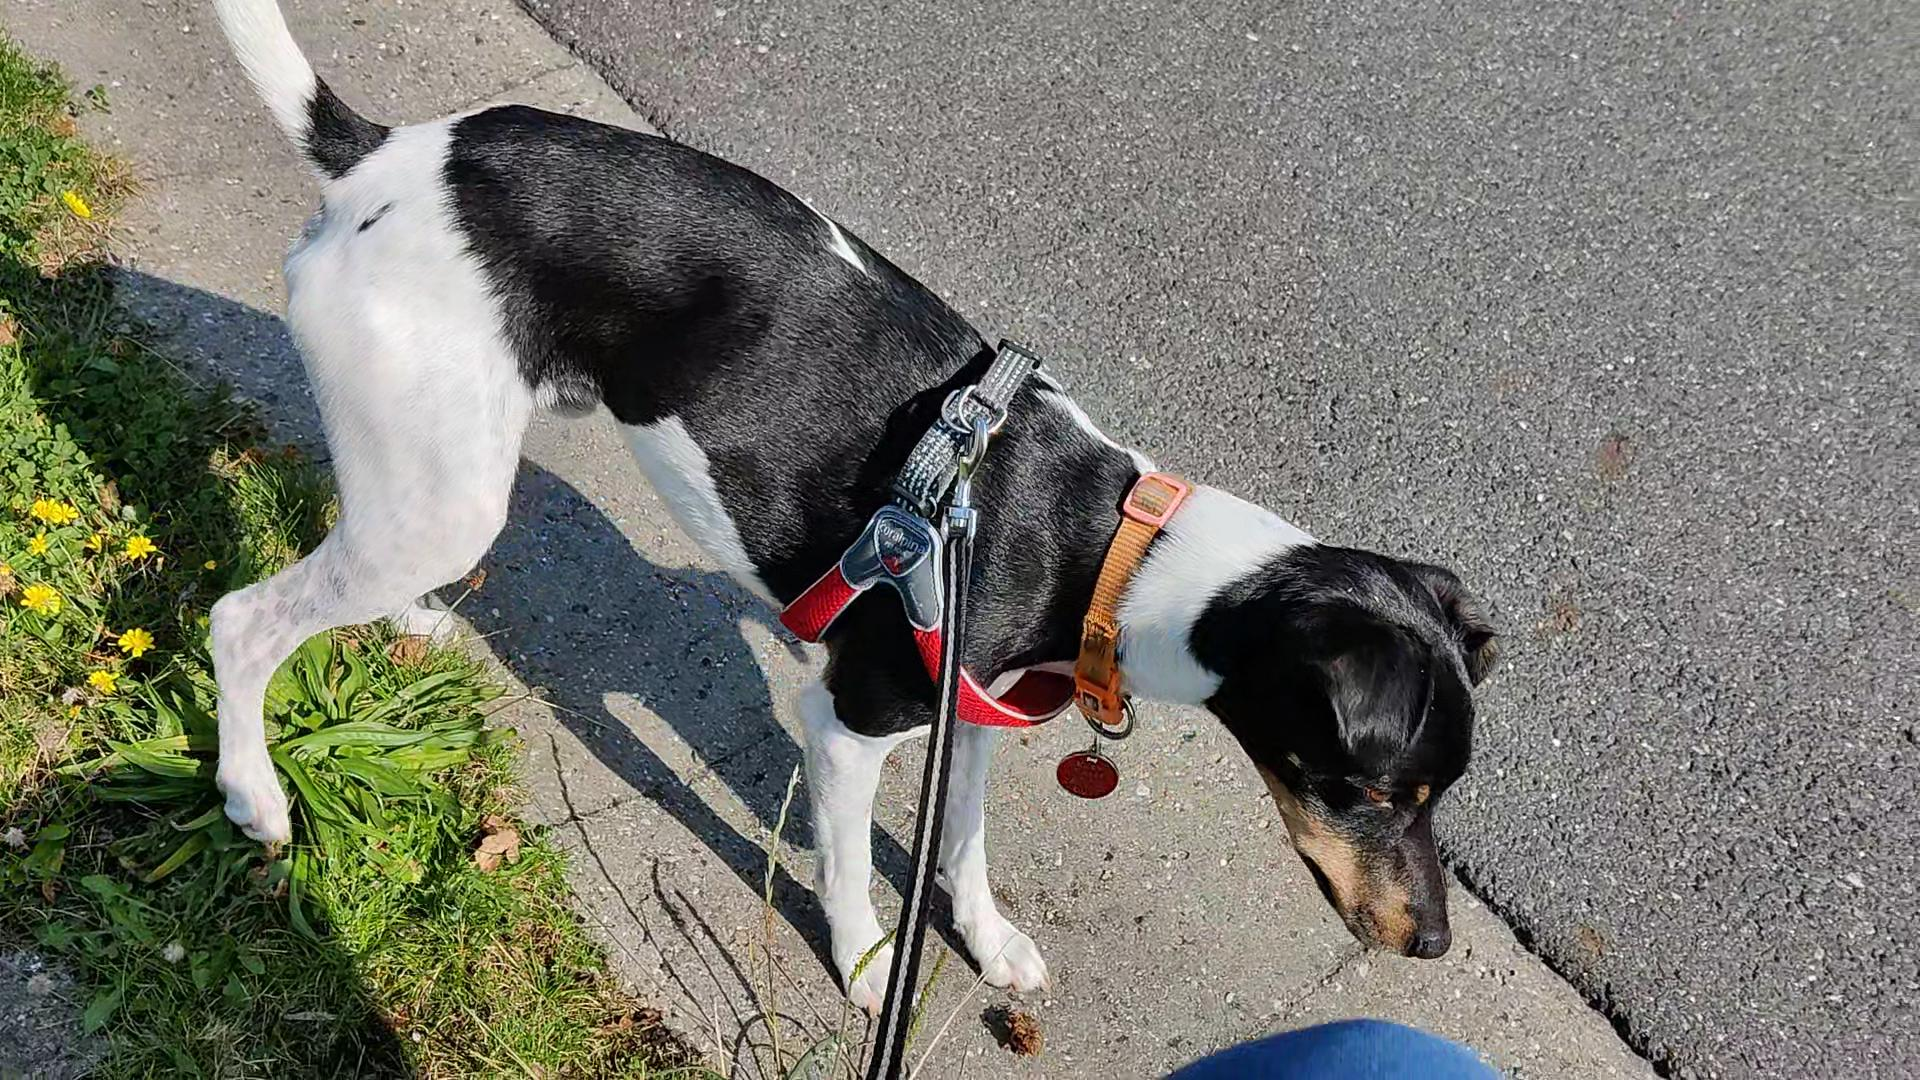Dog: (198, 0, 1506, 1029)
